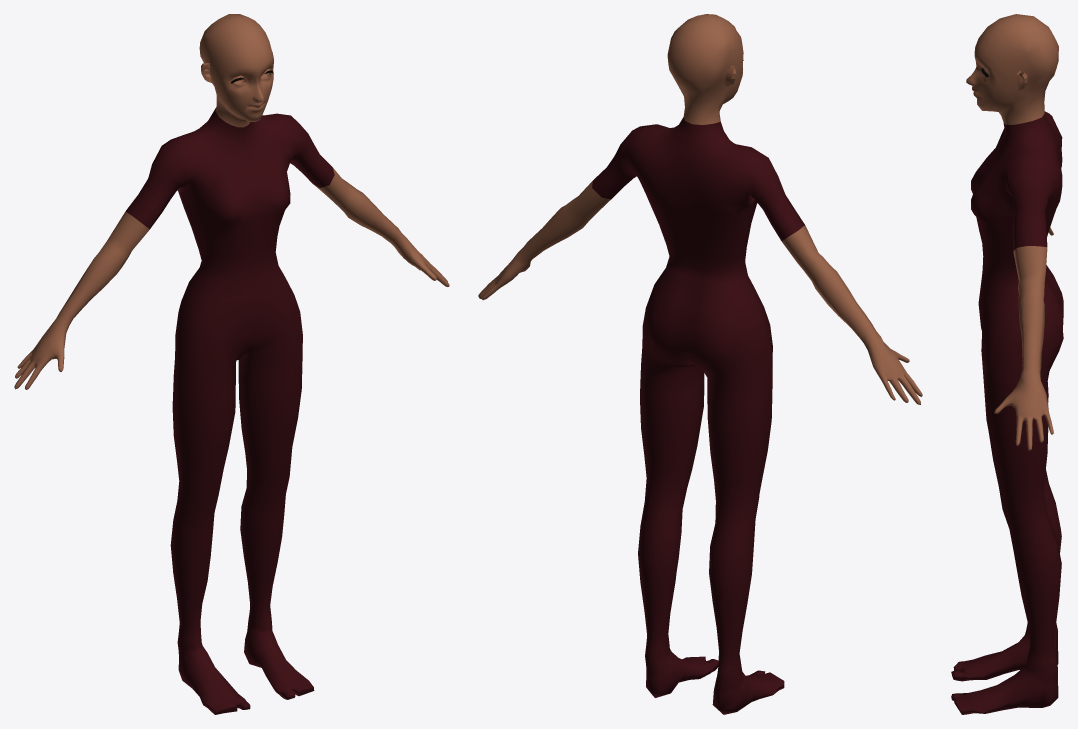
File: Character Base.obj
The picture shows the model from 3 angles, left to right: view 1: azimuth 30°, elevation 25°; view 2: azimuth 150°, elevation 25°; view 3: azimuth 270°, elevation 25°; orthographic projection. The views are drawn at different scales.
Visible parts, largest first — view 1: Body_Base1; view 2: Body_Base1; view 3: Body_Base1.
Boxes of the visible parts, x1,y1,x2,y2 form: Body_Base1: [14, 14, 449, 714]; Body_Base1: [478, 14, 922, 714]; Body_Base1: [951, 14, 1063, 714].
Bounding box in the file's own units: 12.91 × 18.99 × 2.87.
